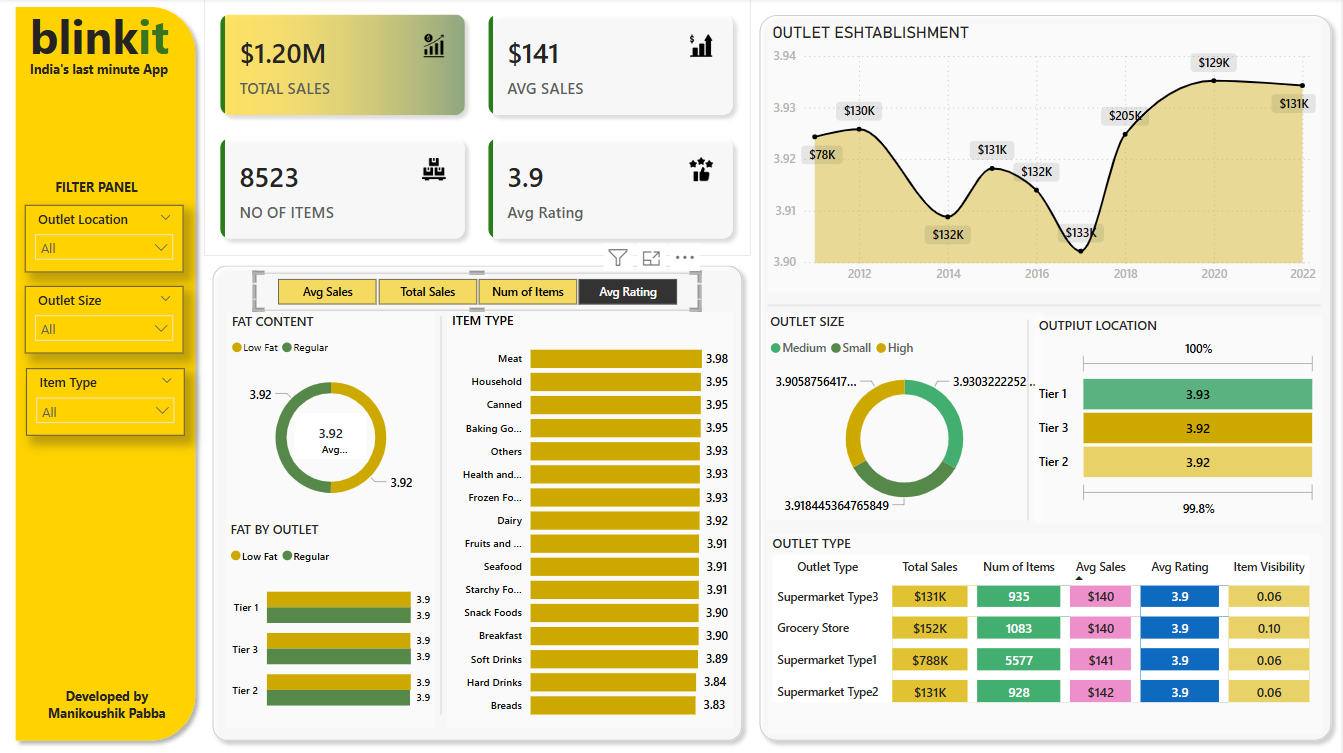

What the dashboard file says about the page in this screenshot:
{"tool":"powerbi","page":{"name":"Dashboard","canvas":[1400,800],"ordinal":0},"visuals":[{"type":"shape","box":[10.1,0,205.5,783],"z":0},{"type":"textbox","box":[29,1.3,166.4,78.2],"z":1000},{"type":"textbox","box":[29,60.5,165.2,29],"z":2000},{"type":"cardVisual","fields":{"Data":["BlinkIT Grocery Data.Total Sales","BlinkIT Grocery Data.Avg Sales","BlinkIT Grocery Data.Num of Items","BlinkIT Grocery Data.Avg Rating"]},"box":[215.6,0,569.9,269.8],"z":3000},{"type":"shape","box":[215.6,269.8,569.9,513.2],"z":4000},{"type":"donutChart","title":"FAT CONTENT","fields":{"Y":["BlinkIT Grocery Data.Total Sales"],"Category":["BlinkIT Grocery Data.Item Fat Content"]},"box":[239.6,327.8,216.9,216.9],"z":5000},{"type":"slicer","fields":{"Values":["Metrics.Metrics"]},"box":[267.3,286.2,465.3,40.3],"z":6000},{"type":"cardVisual","fields":{"Data":["BlinkIT Grocery Data.Total Sales"]},"box":[305.1,427.4,85.7,58],"z":7000},{"type":"clusteredBarChart","title":"FAT BY OUTLET","fields":{"Y":["BlinkIT Grocery Data.Total Sales"],"Category":["BlinkIT Grocery Data.Outlet Location Type"],"Series":["BlinkIT Grocery Data.Item Fat Content"]},"box":[238.3,544.7,218.1,216.9],"z":8000},{"type":"shape","box":[456.4,331.6,12.6,416.1],"z":9000},{"type":"barChart","title":"ITEM TYPE","fields":{"Y":["BlinkIT Grocery Data.Total Sales"],"Category":["BlinkIT Grocery Data.Item Type"]},"box":[469.1,326.6,297.6,435],"z":10000},{"type":"shape","box":[785.5,8.8,614.1,774.2],"z":11000},{"type":"lineChart","title":"OUTLET ESHTABLISHMENT","fields":{"Y":["BlinkIT Grocery Data.Total Sales"],"Category":["BlinkIT Grocery Data.Outlet Establishment Year"]},"box":[803.2,26.5,576.2,279.9],"z":12000},{"type":"donutChart","title":"OUTLET SIZE","fields":{"Y":["BlinkIT Grocery Data.Total Sales"],"Category":["BlinkIT Grocery Data.Outlet Size"]},"box":[800.7,327.8,290,216.9],"z":13000},{"type":"funnel","title":"OUTPIUT LOCATION","fields":{"Y":["BlinkIT Grocery Data.Total Sales"],"Category":["BlinkIT Grocery Data.Outlet Location Type"]},"box":[1080.6,331.6,300.1,215.6],"z":14000},{"type":"shape","box":[803.2,314,576.2,12.6],"z":15000},{"type":"shape","box":[1068,335.4,12.6,209.3],"z":16000},{"type":"pivotTable","title":"OUTLET TYPE","fields":{"Rows":["BlinkIT Grocery Data.Outlet Type"],"Values":["BlinkIT Grocery Data.Total Sales","BlinkIT Grocery Data.Num of Items","BlinkIT Grocery Data.Avg Sales","BlinkIT Grocery Data.Avg Rating","Avg(BlinkIT Grocery Data.Item Visibility)"]},"box":[803.2,558.6,577.5,208],"z":17000},{"type":"slicer","fields":{"Values":["BlinkIT Grocery Data.Outlet Location Type"]},"box":[29,215.6,165.2,70.6],"z":18000},{"type":"slicer","fields":{"Values":["BlinkIT Grocery Data.Outlet Size"]},"box":[29,300.1,165.2,70.6],"z":20000},{"type":"slicer","fields":{"Values":["BlinkIT Grocery Data.Item Type"]},"box":[30.3,385.8,165.2,70.6],"z":21000},{"type":"textbox","box":[47.9,713.7,146.3,47.9],"z":22000},{"type":"textbox","box":[30.3,182.8,146.3,32.8],"z":23000}]}

Visuals, with their boxes in screenshot pixels (x1, y1, x2, y2), scaled from the page's 1400x800 canvas onto the 1343x753 screenshot:
shape: bbox(10, 0, 207, 737)
textbox: bbox(28, 1, 187, 75)
textbox: bbox(28, 57, 186, 84)
cardVisual - BlinkIT Grocery Data.Total Sales x BlinkIT Grocery Data.Avg Sales: bbox(207, 0, 754, 254)
shape: bbox(207, 254, 754, 737)
"FAT CONTENT" donutChart: bbox(230, 309, 438, 513)
slicer - Metrics.Metrics: bbox(256, 269, 703, 307)
cardVisual - BlinkIT Grocery Data.Total Sales: bbox(293, 402, 375, 457)
"FAT BY OUTLET" clusteredBarChart: bbox(229, 513, 438, 717)
shape: bbox(438, 312, 450, 704)
"ITEM TYPE" barChart: bbox(450, 307, 735, 717)
shape: bbox(754, 8, 1342, 737)
"OUTLET ESHTABLISHMENT" lineChart: bbox(770, 25, 1323, 288)
"OUTLET SIZE" donutChart: bbox(768, 309, 1046, 513)
"OUTPIUT LOCATION" funnel: bbox(1037, 312, 1324, 515)
shape: bbox(770, 296, 1323, 307)
shape: bbox(1025, 316, 1037, 513)
"OUTLET TYPE" pivotTable: bbox(770, 526, 1324, 722)
slicer - BlinkIT Grocery Data.Outlet Location Type: bbox(28, 203, 186, 269)
slicer - BlinkIT Grocery Data.Outlet Size: bbox(28, 282, 186, 349)
slicer - BlinkIT Grocery Data.Item Type: bbox(29, 363, 188, 430)
textbox: bbox(46, 672, 186, 717)
textbox: bbox(29, 172, 169, 203)
